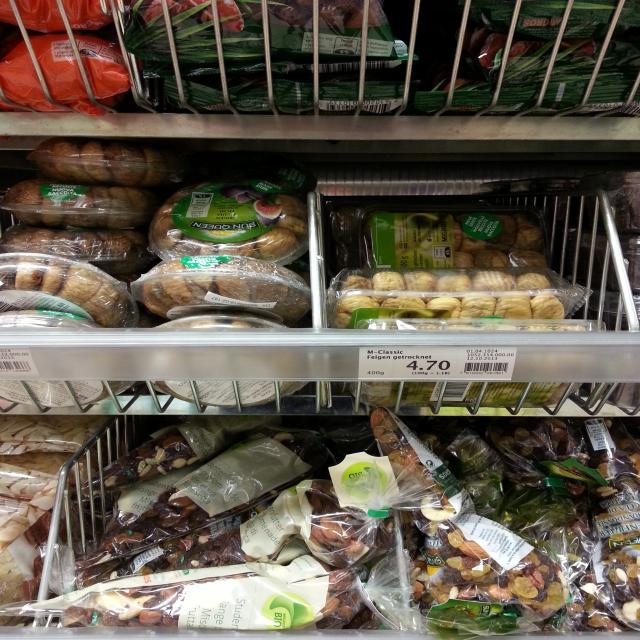DriedFruitsAndNuts: (52, 559, 366, 633), (233, 455, 387, 565), (417, 513, 561, 629), (334, 264, 586, 324), (146, 176, 304, 264), (126, 251, 318, 323), (326, 207, 554, 262), (23, 132, 164, 186), (1, 182, 140, 224)
